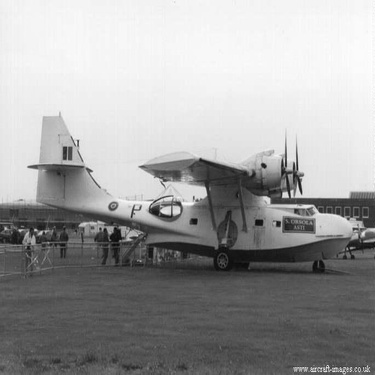airplane: (15, 104, 356, 275)
